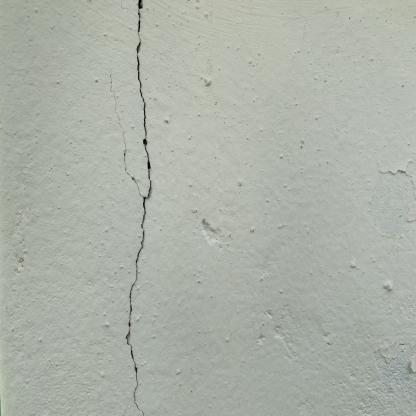crack: (110, 0, 151, 416)
